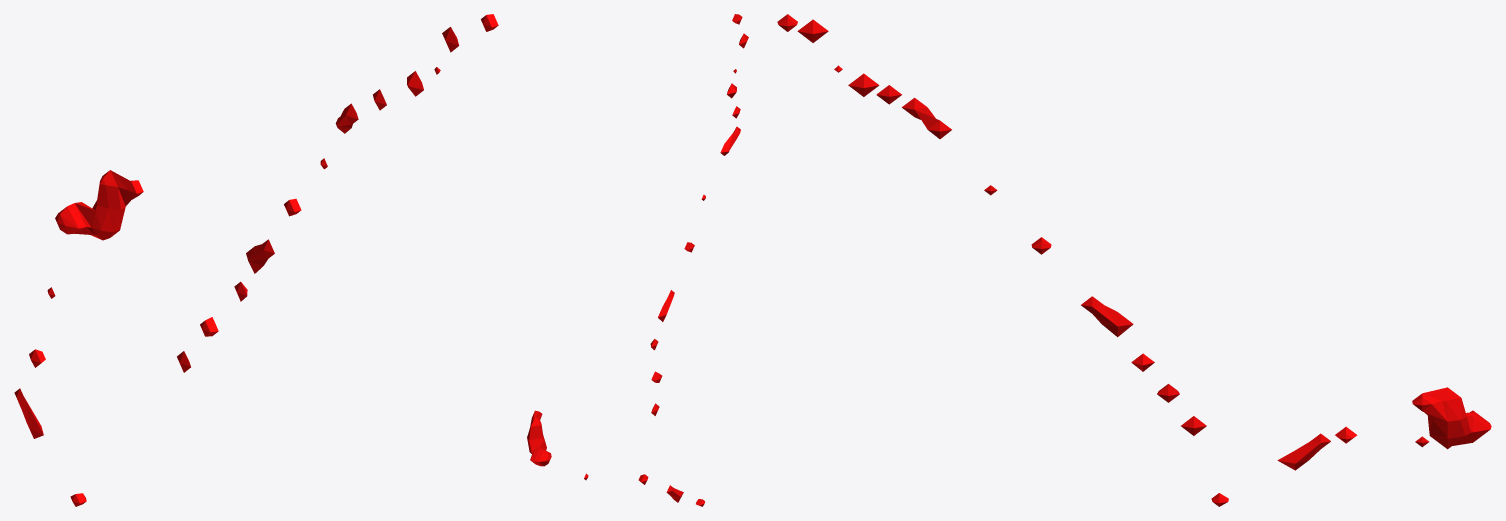
The model's file is fliF_coarse.dae.
3 views of the same model, side by side, from view 1: azimuth 30°, elevation 25°; view 2: azimuth 150°, elevation 25°; view 3: azimuth 270°, elevation 25° (orthographic). The views are drawn at different scales.
Parts seen in each view (by area): view 1: fliF; view 2: fliF; view 3: fliF.
Part boxes in pixels (x1,y1,x2,y2): fliF: [14, 14, 498, 506]; fliF: [527, 14, 748, 506]; fliF: [777, 14, 1491, 506].
Bounding box in the file's own units: 165 × 522 × 594.
